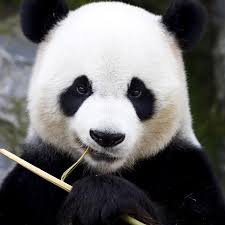panda: (18, 2, 208, 211)
